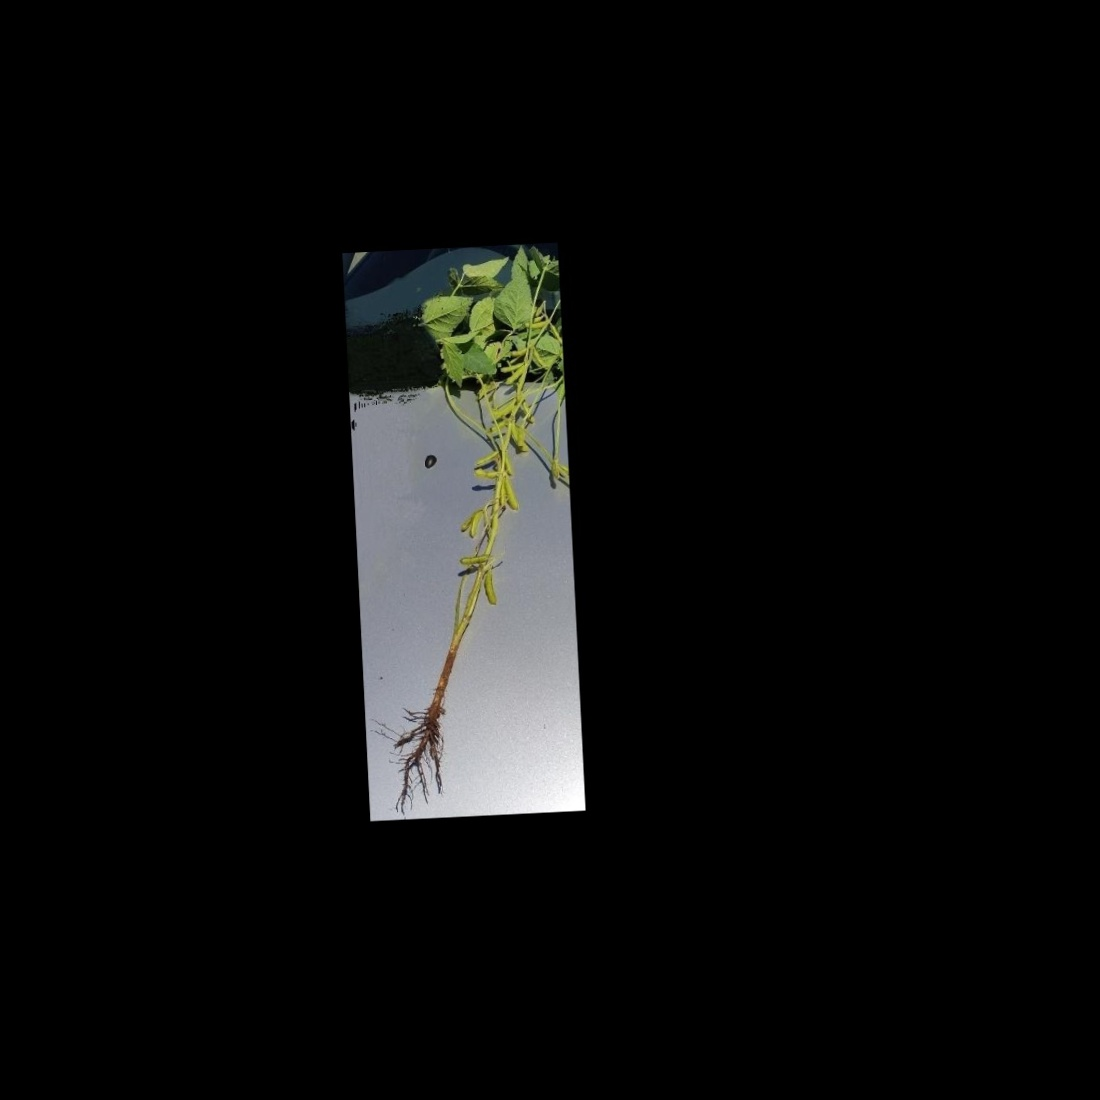pod: (503, 475, 521, 516), (465, 507, 487, 540), (482, 564, 497, 608), (470, 449, 507, 467), (501, 364, 525, 389), (496, 359, 527, 375), (471, 467, 506, 482), (455, 554, 491, 566)
soy: (366, 271, 577, 775)
